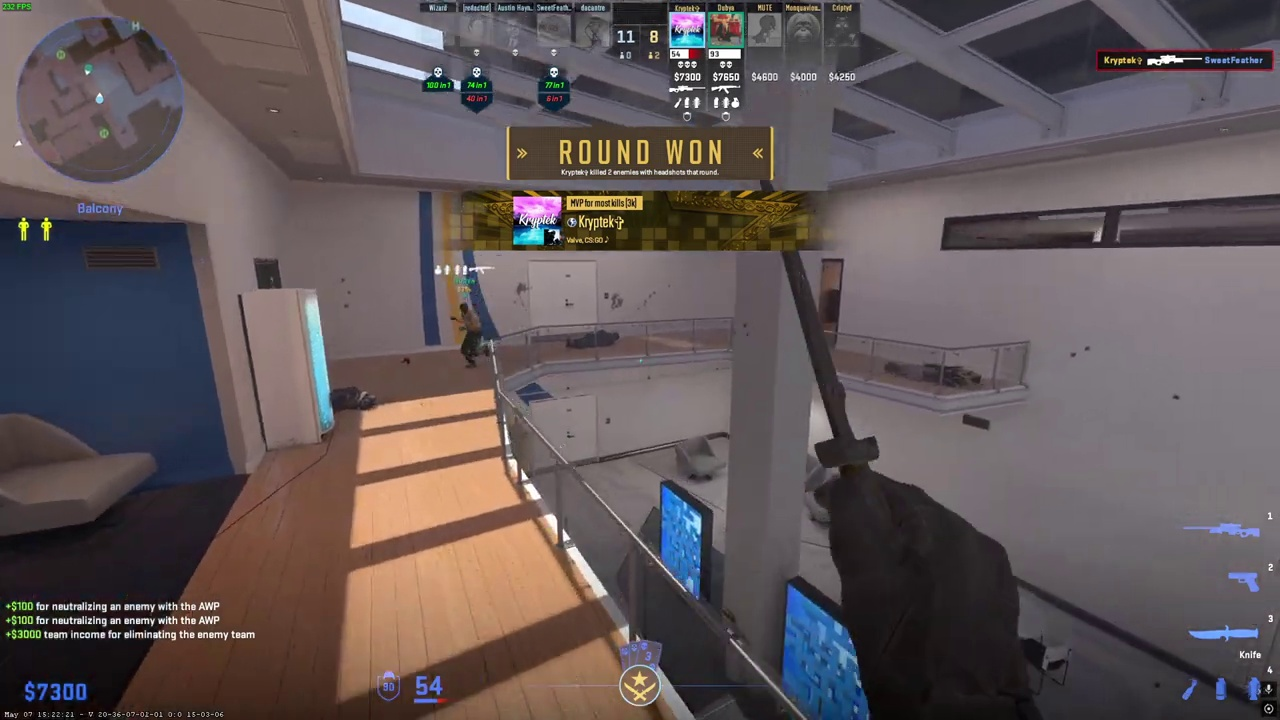Terrorist: (456, 302, 484, 368)
